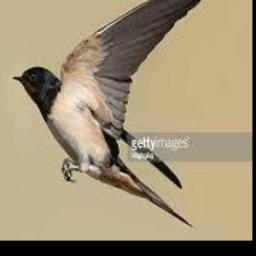Swallow: (11, 0, 215, 227)
